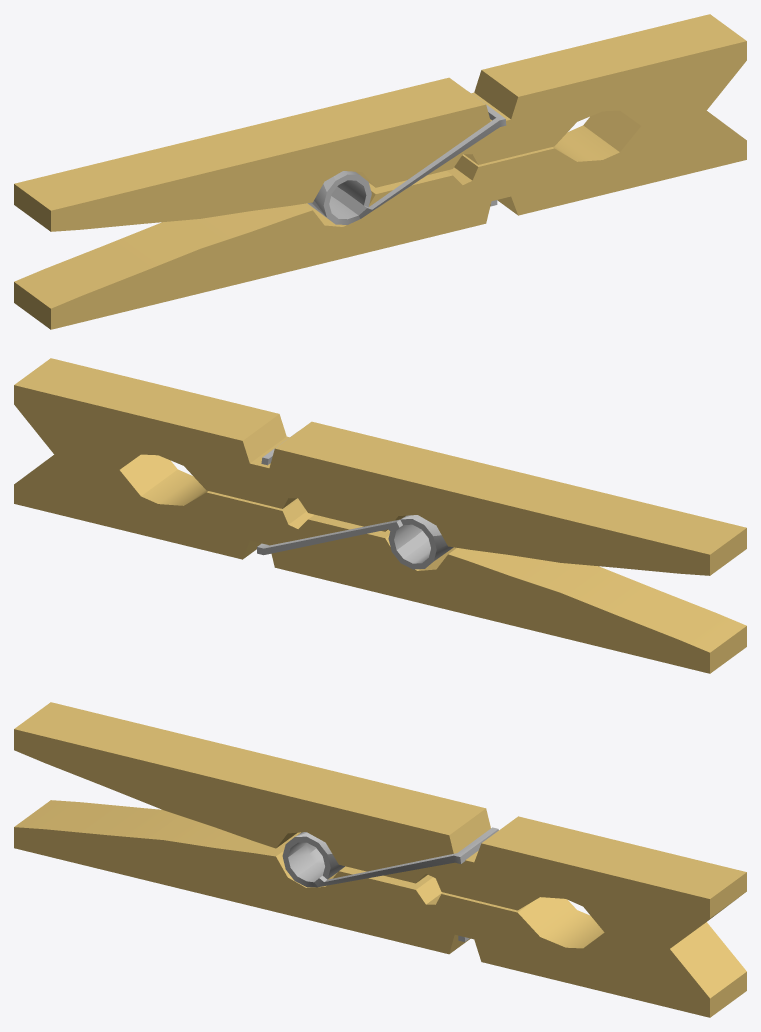
Rendered from ClothesPin.fbx.
3 renders of one model, top to bottom at view 1: azimuth 30°, elevation 25°; view 2: azimuth 150°, elevation 25°; view 3: azimuth 330°, elevation 25°, orthographic.
Visible parts, largest first — view 1: Clothes Pin; view 2: Clothes Pin; view 3: Clothes Pin.
Part boxes in pixels (x1,y1,x2,y2): Clothes Pin: [14, 14, 746, 329]; Clothes Pin: [14, 358, 746, 673]; Clothes Pin: [14, 702, 746, 1017].
Bounding box in the file's own units: 7.55 × 1.23 × 0.9154.
